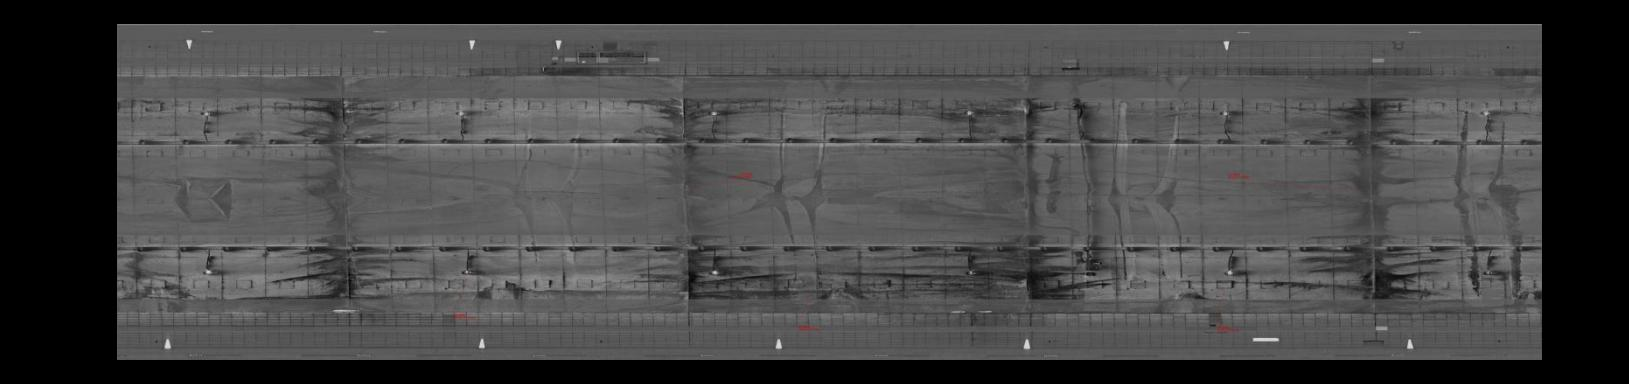light: (1213, 108, 1236, 120), (198, 266, 216, 280), (458, 266, 477, 278), (195, 106, 215, 117), (1221, 266, 1239, 277), (703, 108, 724, 117), (705, 267, 722, 278), (1477, 107, 1494, 118), (1480, 266, 1497, 277), (453, 108, 473, 117), (960, 108, 977, 118), (960, 268, 979, 276)
